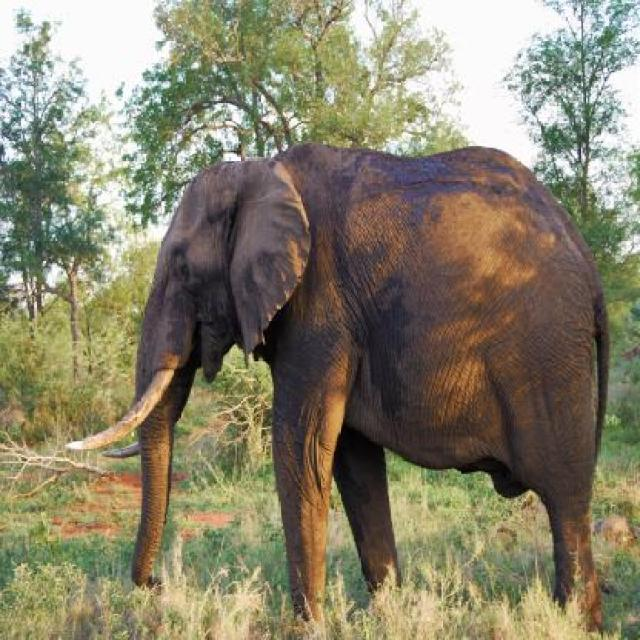Elephant: (62, 128, 622, 634)
